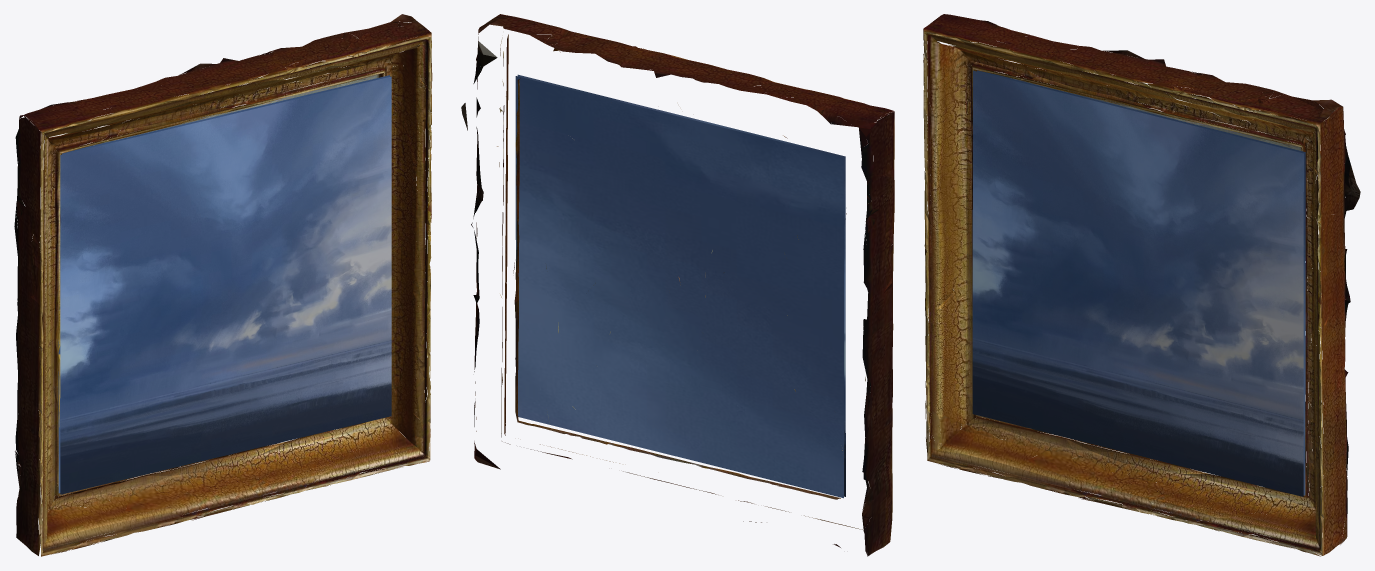
Rendered from cloud painting.glb.
The picture shows the model from 3 angles, left to right: view 1: azimuth 30°, elevation 25°; view 2: azimuth 150°, elevation 25°; view 3: azimuth 330°, elevation 25°; orthographic projection.
Visible parts, largest first — view 1: Painting_Victorian Paintings_0, Object_2; view 2: Painting_Victorian Paintings_0, Object_2; view 3: Painting_Victorian Paintings_0, Object_2.
Part boxes in pixels (<box>): Painting_Victorian Paintings_0: <box>58,75,391,494</box>; Object_2: <box>14,14,432,556</box>; Painting_Victorian Paintings_0: <box>515,74,845,498</box>; Object_2: <box>461,14,894,556</box>; Painting_Victorian Paintings_0: <box>972,70,1305,496</box>; Object_2: <box>923,14,1360,556</box>.
Size of the model in its own units: 1.07 by 1.09 by 0.1378.
2 materials, 2 textured.
